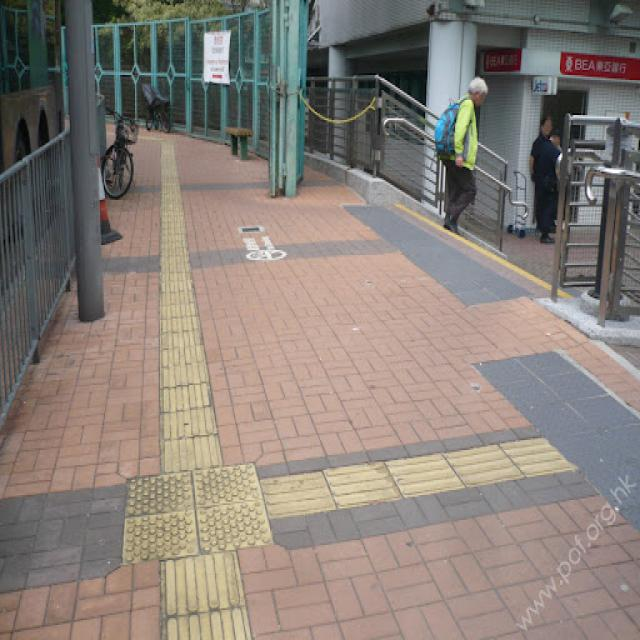tactile-guide-path: (260, 437, 579, 520), (157, 138, 225, 474), (120, 464, 275, 564), (160, 548, 254, 638)
